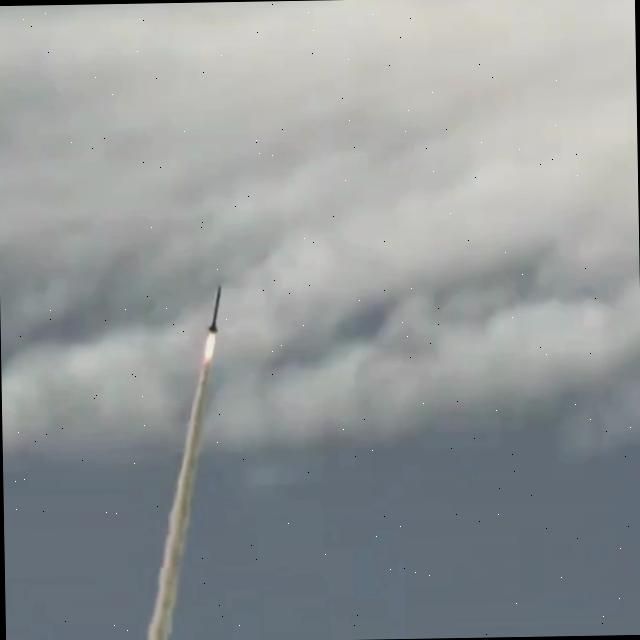rocket: (208, 285, 220, 332)
smoke_trail_with_rocket: (146, 286, 221, 640)
